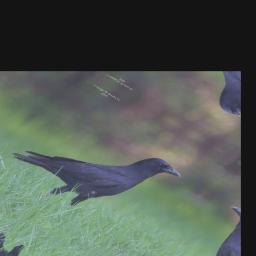Crow: (0, 104, 186, 237)
